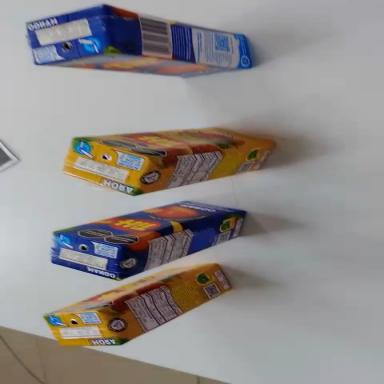HIT-MANGO: (45, 189, 254, 293), (22, 0, 257, 90)
HIT-MORA: (44, 234, 233, 370), (58, 98, 280, 209)
cara_F: (56, 181, 247, 264), (44, 247, 215, 332), (75, 110, 275, 169), (40, 41, 242, 95)
